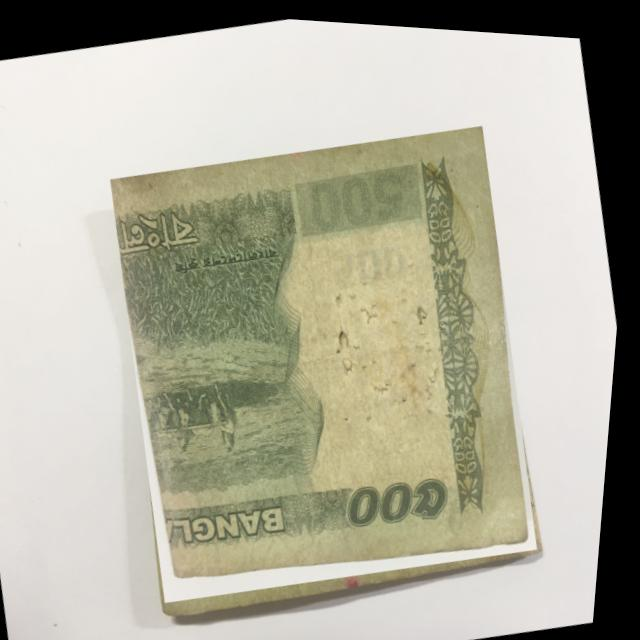Taka: (86, 99, 573, 618)
